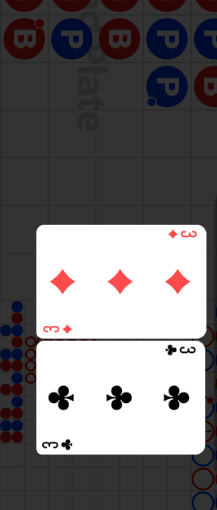3C: (41, 437, 75, 452)
3D: (43, 323, 75, 334)
